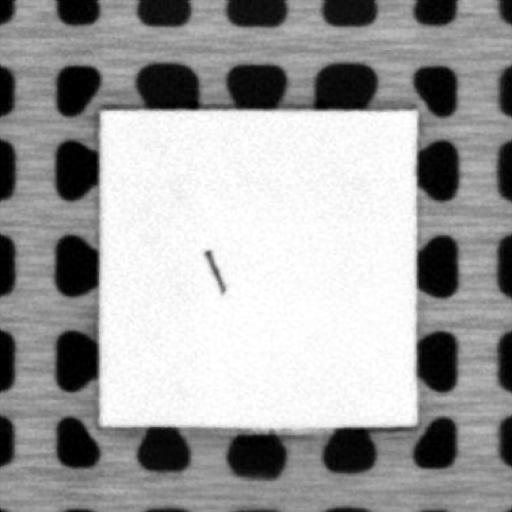DIE_INK: (202, 246, 226, 292)
